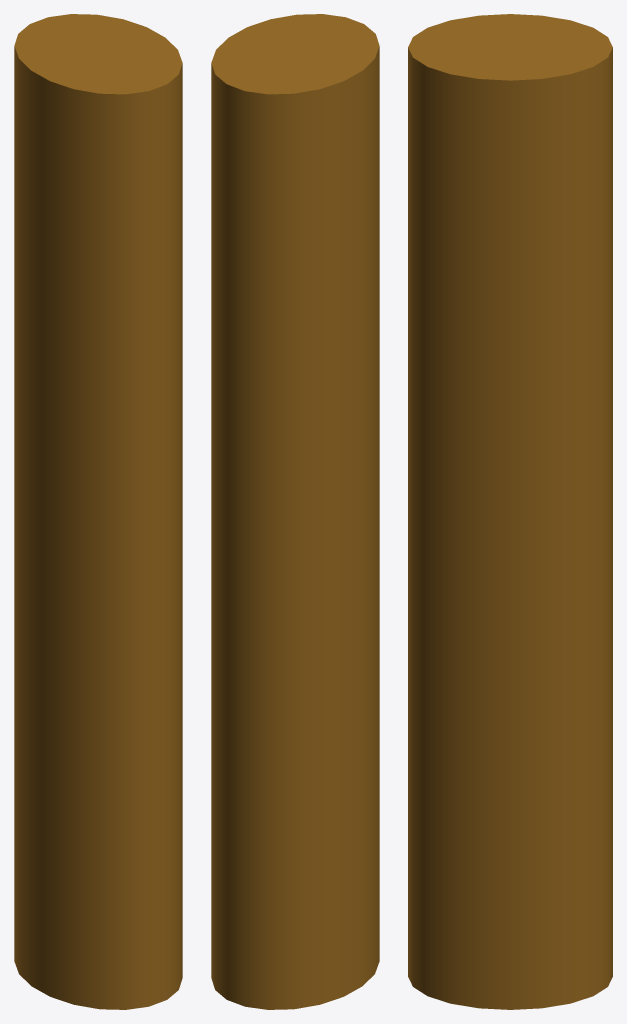
File: Stalk05.fbx
3 renders of one model, left to right at view 1: azimuth 30°, elevation 25°; view 2: azimuth 150°, elevation 25°; view 3: azimuth 270°, elevation 25°, orthographic.
Parts seen in each view (by area): view 1: polySurface134; view 2: polySurface134; view 3: polySurface134.
Part boxes in pixels (x1=…): polySurface134: x1=14, y1=14, x2=182, y2=1009; polySurface134: x1=211, y1=14, x2=379, y2=1009; polySurface134: x1=408, y1=14, x2=612, y2=1009.
Size of the model in its own units: 0.062 by 0.4033 by 0.0806.
